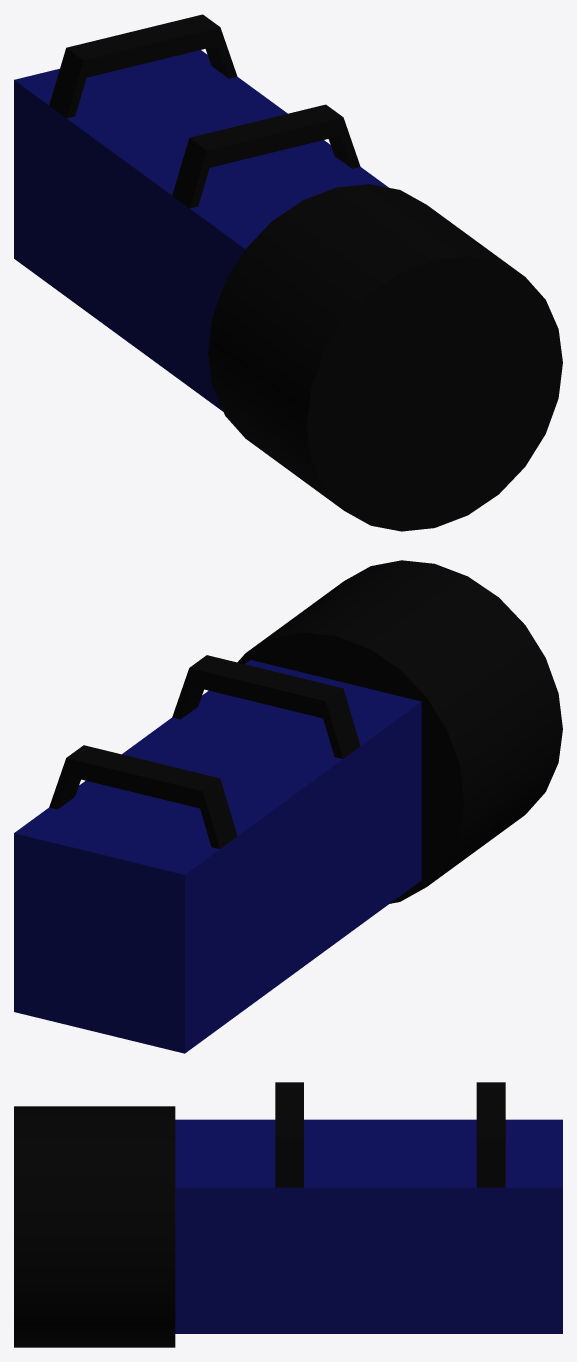
Rendered from TheRam.fbx.
The picture shows the model from 3 angles, top to bottom: view 1: azimuth 30°, elevation 25°; view 2: azimuth 150°, elevation 25°; view 3: azimuth 270°, elevation 25°; orthographic projection. The views are drawn at different scales.
Visible parts, largest first — view 1: mergedBlocks; view 2: mergedBlocks; view 3: mergedBlocks.
Part boxes in pixels (x1,y1,x2,y2): mergedBlocks: [14, 14, 562, 531]; mergedBlocks: [14, 560, 562, 1053]; mergedBlocks: [14, 1082, 562, 1347].
Size of the model in its own units: 15 by 15.5 by 34.
